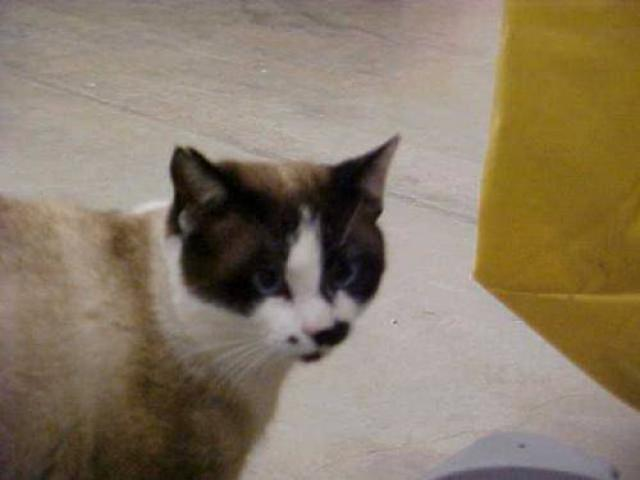cat: (1, 130, 401, 479)
